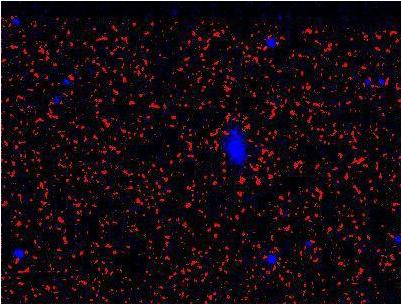star: (216, 115, 246, 145)
